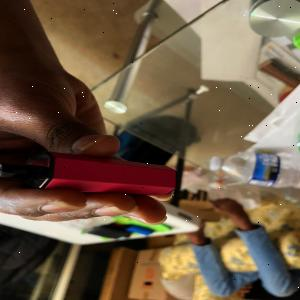Blume-E-Ciggirate: (0, 152, 184, 200)
